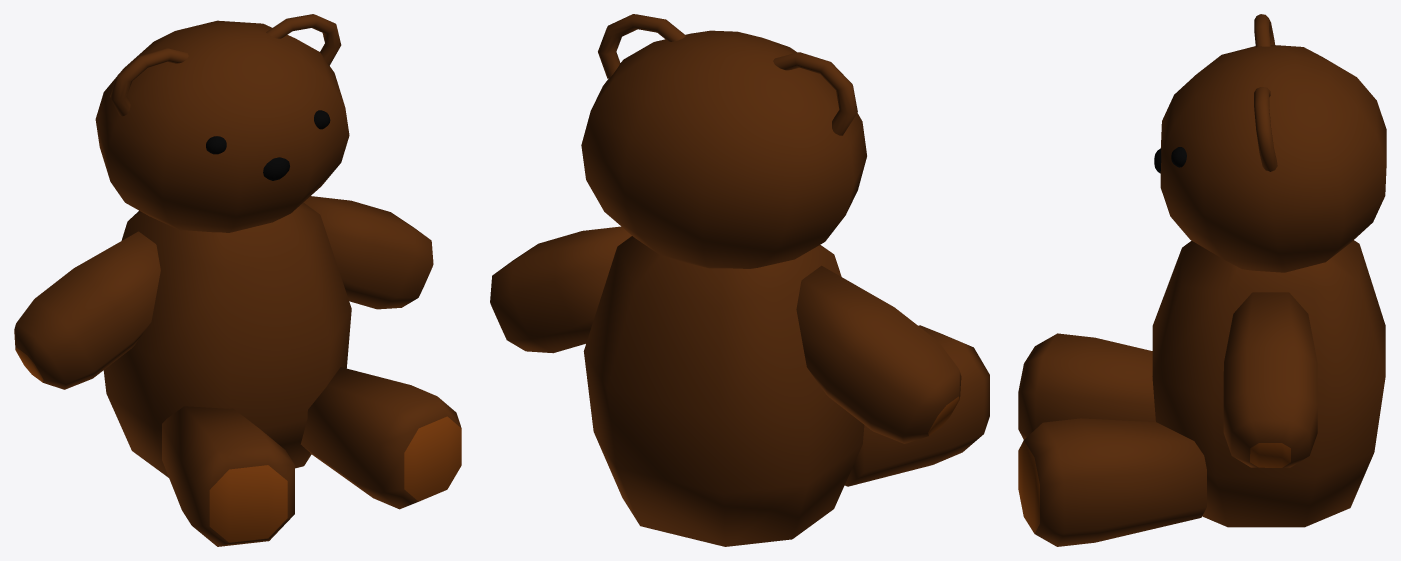
The model's file is Toys_TeddyBig.fbx.
3 renders of one model, left to right at view 1: azimuth 30°, elevation 25°; view 2: azimuth 150°, elevation 25°; view 3: azimuth 270°, elevation 25°, orthographic. The views are drawn at different scales.
Visible parts, largest first — view 1: pasted__polySurface234; view 2: pasted__polySurface234; view 3: pasted__polySurface234.
Part boxes in pixels (x1,y1,x2,y2): pasted__polySurface234: (14,14,461,546); pasted__polySurface234: (490,14,989,546); pasted__polySurface234: (1018,14,1386,546).
Bounding box in the file's own units: 4.05 × 3.97 × 3.06.
